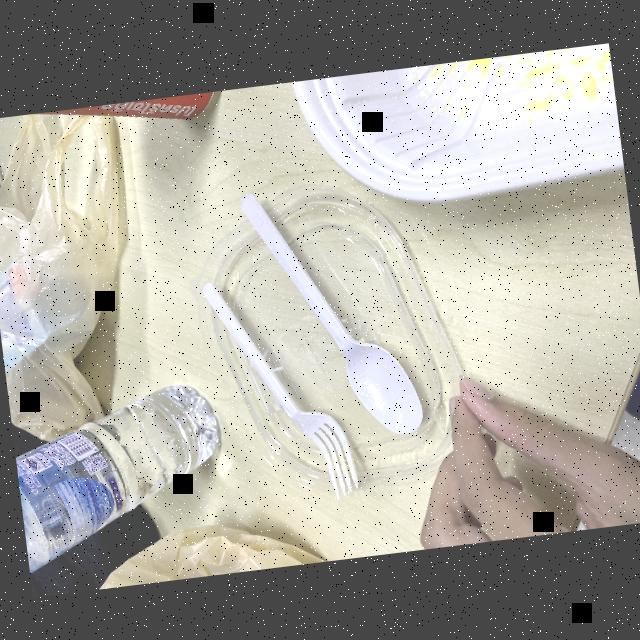plastic_cultery: (230, 171, 442, 465), (192, 264, 367, 519)
